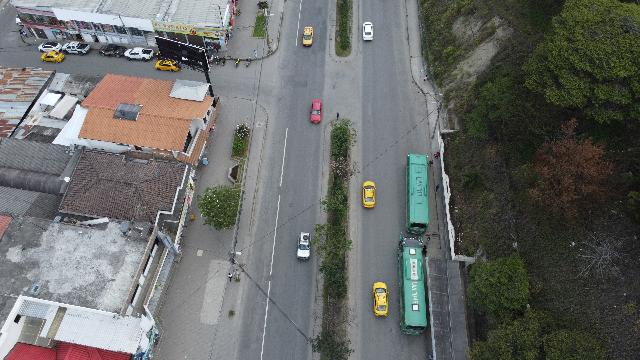Vehiculo: (372, 282, 388, 316), (125, 47, 154, 61), (62, 41, 90, 55), (362, 182, 376, 208), (298, 232, 310, 260), (98, 44, 126, 56), (155, 59, 179, 71), (310, 100, 322, 122), (42, 50, 64, 62), (302, 26, 314, 46), (38, 42, 62, 52), (362, 22, 373, 42)
